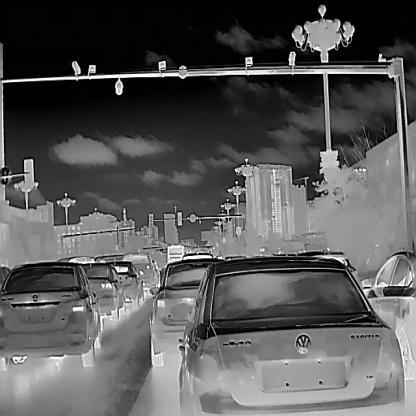car: (177, 257, 404, 415), (0, 259, 99, 371), (149, 257, 225, 366), (359, 251, 415, 379), (82, 263, 125, 320), (106, 261, 144, 308), (120, 251, 161, 292), (166, 242, 193, 263)
